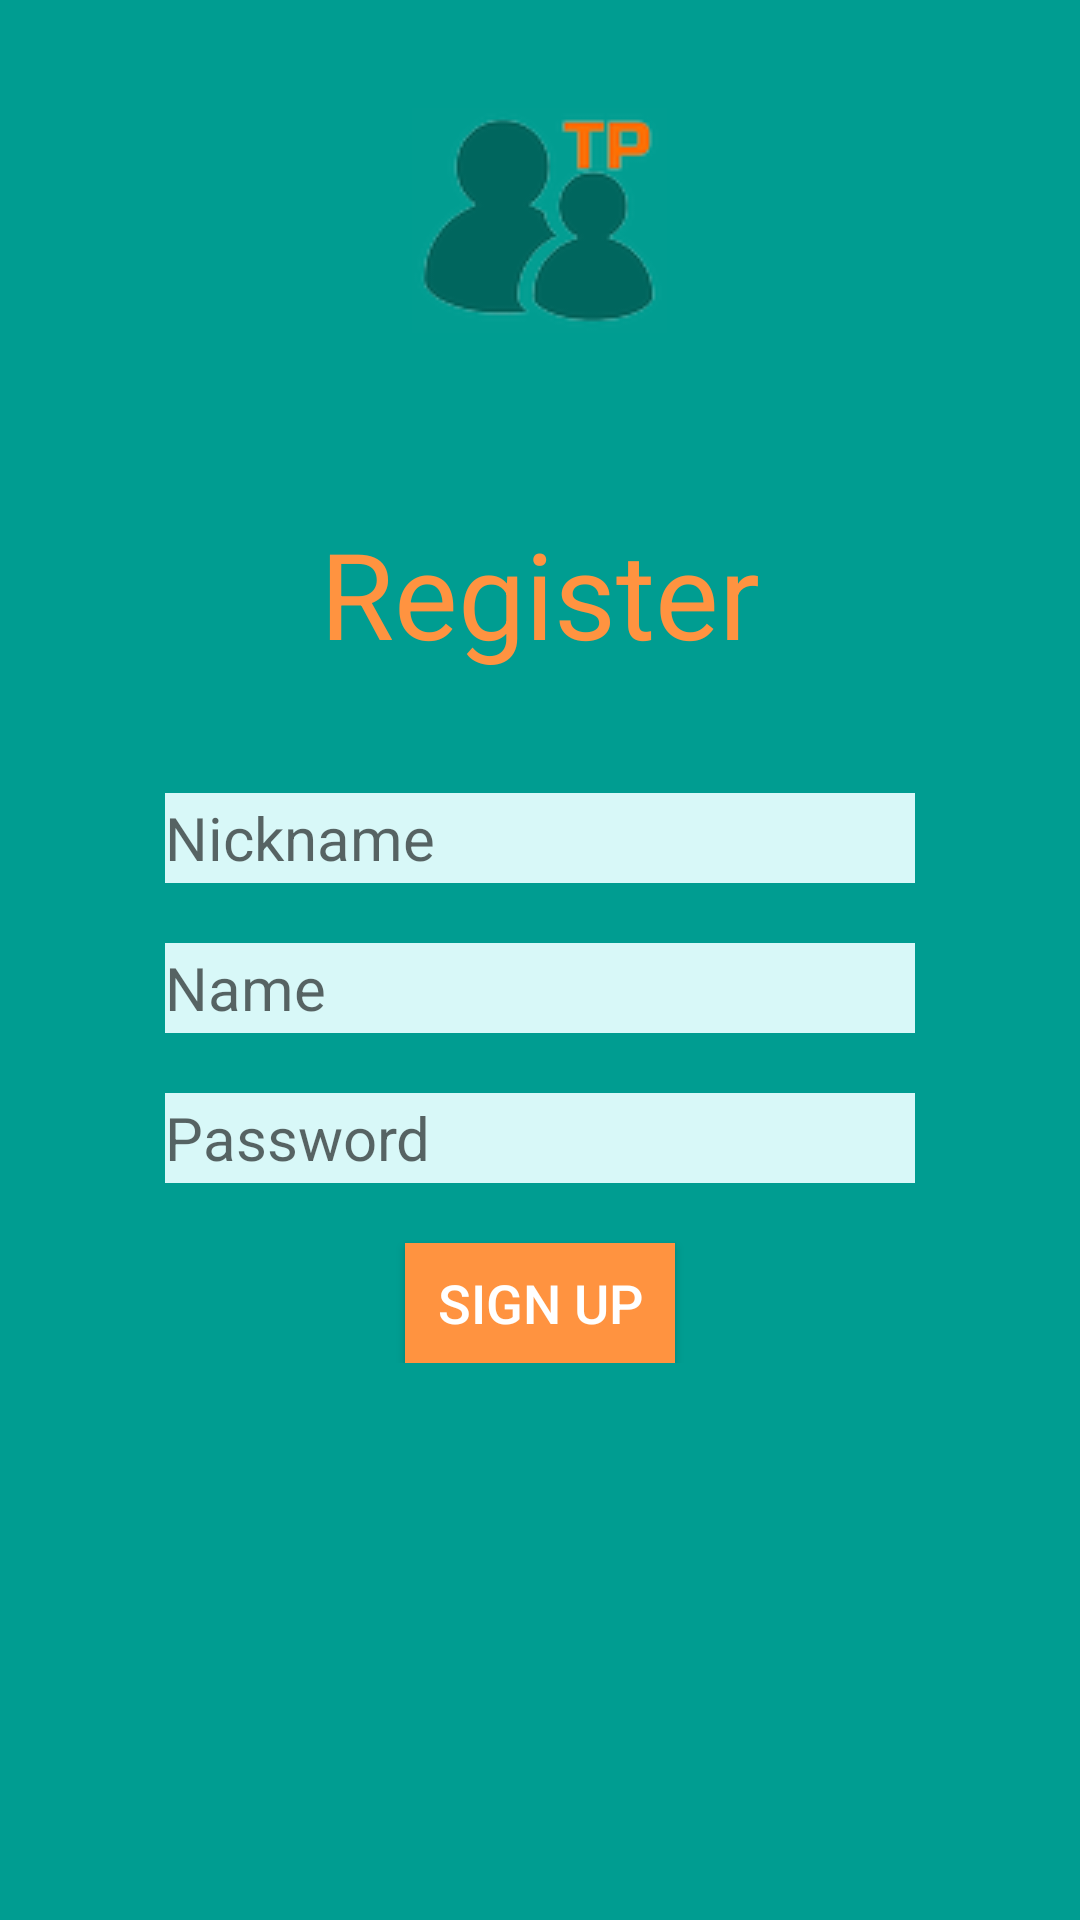

Named icons in this screenshot (1080px x 1920px) and their centers, point (x, y):
loadinglogo: point (539, 220)
